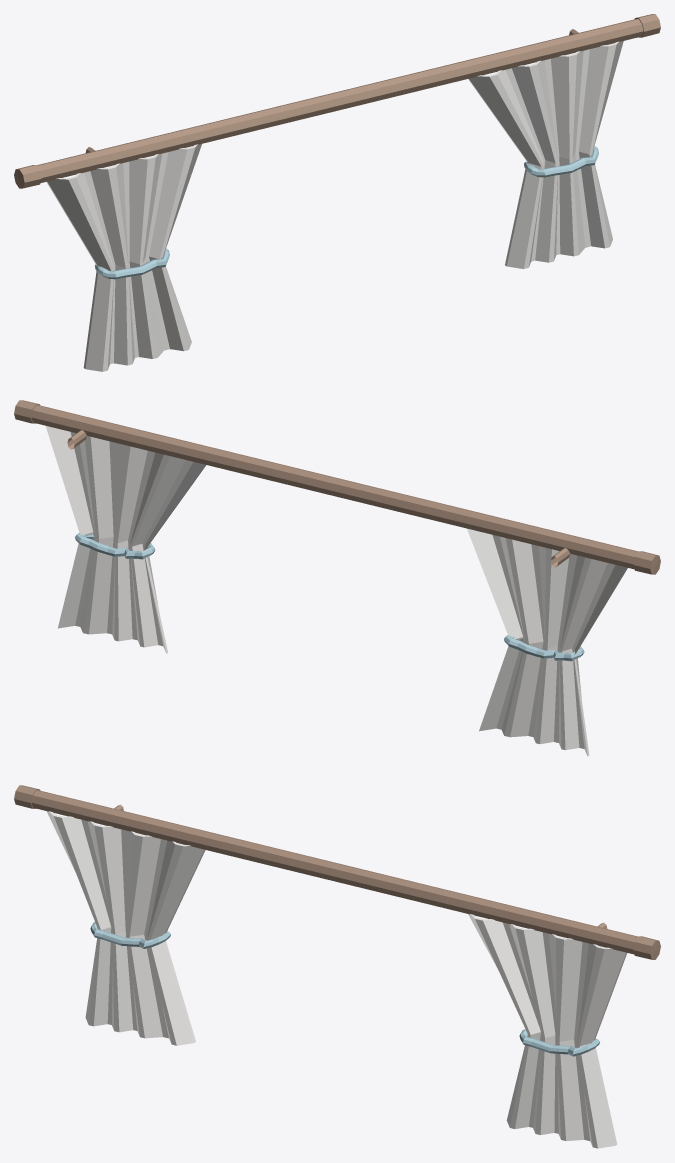
The model's file is Curtains_6_231109.glb.
3 views of the same model, one above another, from view 1: azimuth 30°, elevation 25°; view 2: azimuth 150°, elevation 25°; view 3: azimuth 330°, elevation 25° (orthographic).
Parts seen in each view (by area): view 1: Curtains_6; view 2: Curtains_6; view 3: Curtains_6.
Boxes of the visible parts, x1,y1,x2,y2 form: Curtains_6: (14, 14, 660, 371); Curtains_6: (14, 400, 660, 756); Curtains_6: (14, 785, 660, 1148).
Size of the model in its own units: 3.24 by 1.05 by 0.2382.
Materials: 1 (1 with a texture image).
